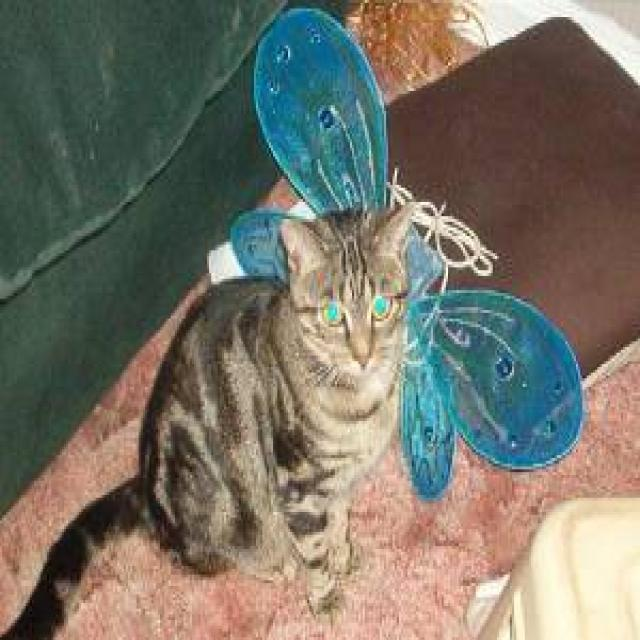Egyptian_Mau: (280, 203, 421, 389)
